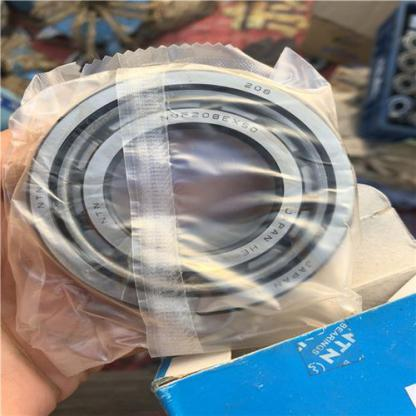FOD: (22, 64, 359, 316)
